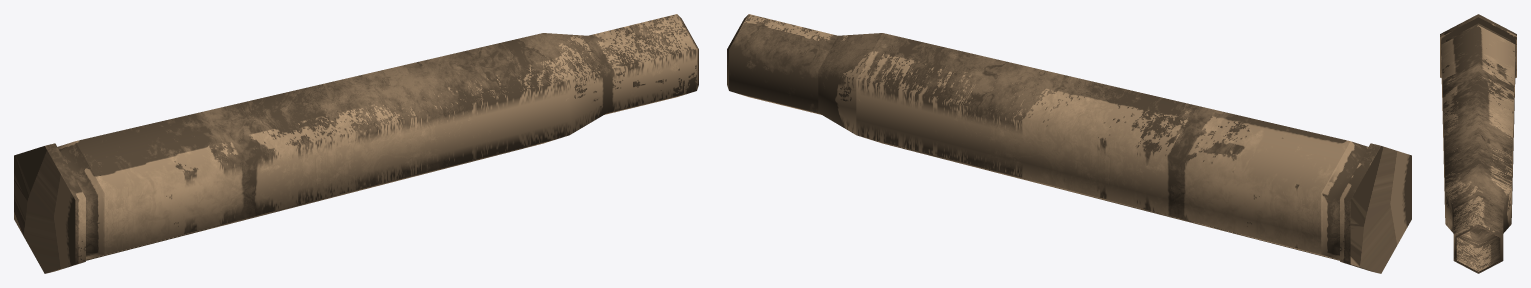
Rendered from 30EmptyLow.fbx.
The picture shows the model from 3 angles, left to right: view 1: azimuth 30°, elevation 25°; view 2: azimuth 150°, elevation 25°; view 3: azimuth 270°, elevation 25°; orthographic projection. The views are drawn at different scales.
Visible parts, largest first — view 1: 30.06SpringfieldCasingLowPoly; view 2: 30.06SpringfieldCasingLowPoly; view 3: 30.06SpringfieldCasingLowPoly.
Boxes of the visible parts, x1,y1,x2,y2 form: 30.06SpringfieldCasingLowPoly: [14, 14, 698, 273]; 30.06SpringfieldCasingLowPoly: [727, 14, 1411, 273]; 30.06SpringfieldCasingLowPoly: [1440, 14, 1516, 273].
Bounding box in the file's own units: 25.69 × 4.94 × 4.28.
